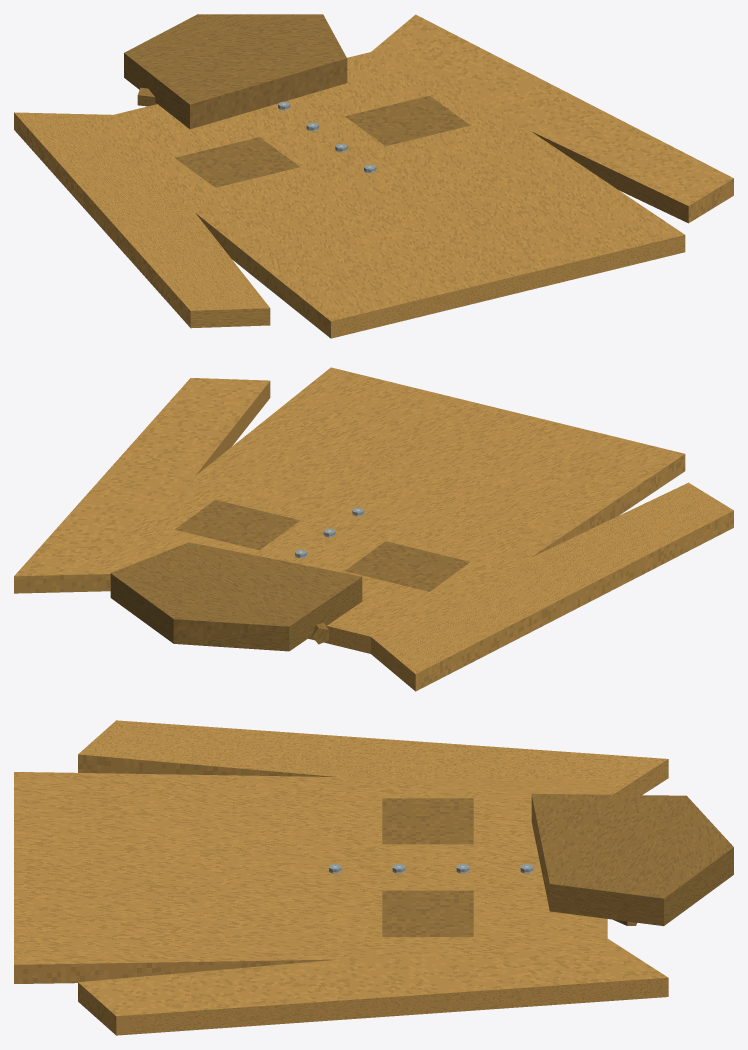
File: coat_rain.glb
3 views of the same model, one above another, from view 1: azimuth 30°, elevation 25°; view 2: azimuth 150°, elevation 25°; view 3: azimuth 270°, elevation 25° (orthographic). The views are drawn at different scales.
Visible parts, largest first — view 1: block_shirt torso, block_sleeve or strap -1, block_sleeve or strap 1, block_folded hood, block_patch pocket -1, block_patch pocket 1; view 2: block_shirt torso, block_sleeve or strap -1, block_folded hood, block_sleeve or strap 1, block_patch pocket -1, block_patch pocket 1; view 3: block_shirt torso, block_sleeve or strap 1, block_sleeve or strap -1, block_folded hood, block_patch pocket -1, block_patch pocket 1.
Boxes of the visible parts, bbox=[...] form: block_shirt torso: bbox=[83, 44, 685, 338]; block_sleeve or strap -1: bbox=[14, 112, 270, 328]; block_sleeve or strap 1: bbox=[369, 14, 733, 223]; block_folded hood: bbox=[124, 14, 347, 129]; block_patch pocket -1: bbox=[175, 137, 299, 187]; block_patch pocket 1: bbox=[345, 95, 470, 146]; block_shirt torso: bbox=[83, 367, 685, 653]; block_sleeve or strap -1: bbox=[371, 482, 733, 691]; block_folded hood: bbox=[110, 542, 362, 651]; block_sleeve or strap 1: bbox=[14, 378, 270, 593]; block_patch pocket -1: bbox=[345, 541, 469, 591]; block_patch pocket 1: bbox=[175, 499, 299, 550]; block_shirt torso: bbox=[14, 772, 607, 983]; block_sleeve or strap 1: bbox=[78, 939, 668, 1035]; block_sleeve or strap -1: bbox=[78, 720, 668, 794]; block_folded hood: bbox=[531, 793, 733, 926]; block_patch pocket -1: bbox=[382, 798, 473, 844]; block_patch pocket 1: bbox=[382, 890, 473, 936].
Size of the model in its own units: 0.46 by 0.034 by 0.473.
1 material, 1 textured.
